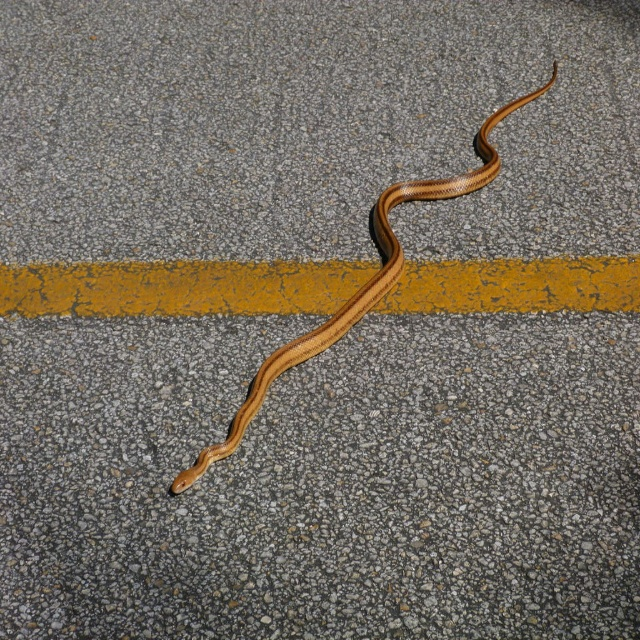Snake: (173, 62, 558, 493)
